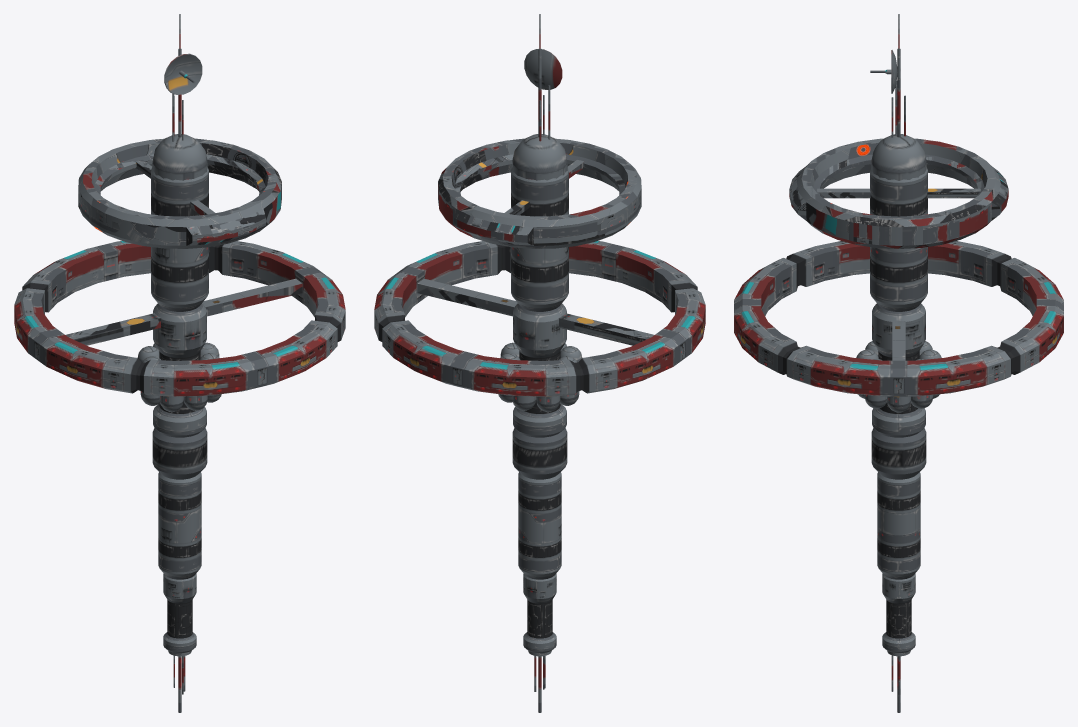
Rendered from StationD_sm.gltf.
3 views of the same model, side by side, from view 1: azimuth 30°, elevation 25°; view 2: azimuth 150°, elevation 25°; view 3: azimuth 270°, elevation 25° (orthographic).
Parts seen in each view (by area): view 1: SpaceStation16; view 2: SpaceStation16; view 3: SpaceStation16.
Part boxes in pixels (x1,y1,x2,y2): SpaceStation16: (14,14,345,712); SpaceStation16: (374,14,705,712); SpaceStation16: (734,14,1063,712).
Bounding box in the file's own units: 91.11 × 213 × 91.11.
1 material, 1 textured.
